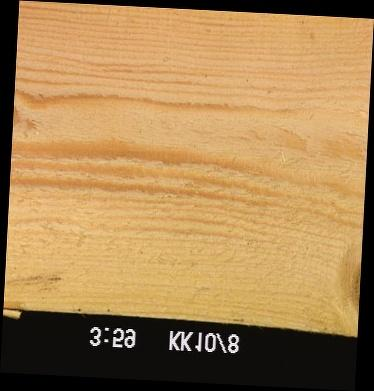sound_knot: (335, 247, 359, 327)
wave: (3, 296, 29, 310)
